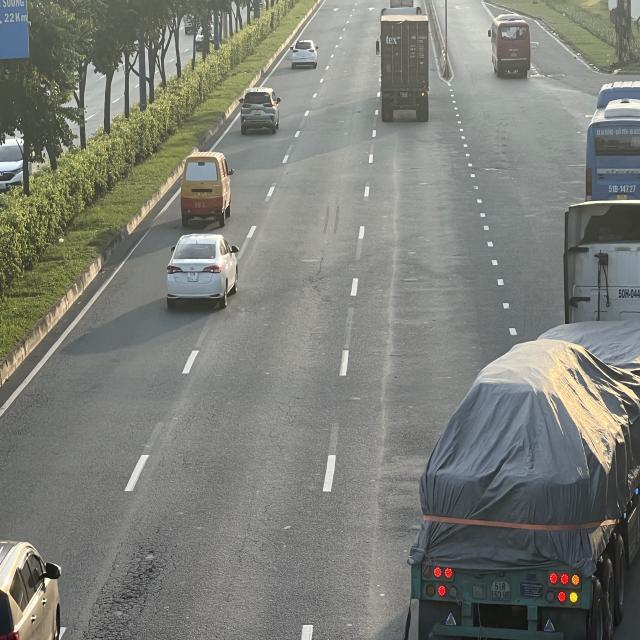car: (0, 540, 63, 640), (168, 232, 242, 306), (237, 85, 280, 131), (290, 41, 318, 69)
coach: (584, 105, 637, 212), (488, 12, 530, 74)
container: (407, 200, 640, 636), (374, 12, 430, 122)
van: (182, 148, 235, 224)
